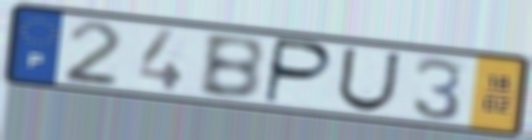2: (63, 18, 122, 88)
3: (412, 54, 464, 123)
4: (137, 26, 186, 94)
B: (195, 33, 267, 102)
P: (260, 35, 336, 107)
U: (334, 45, 404, 114)
